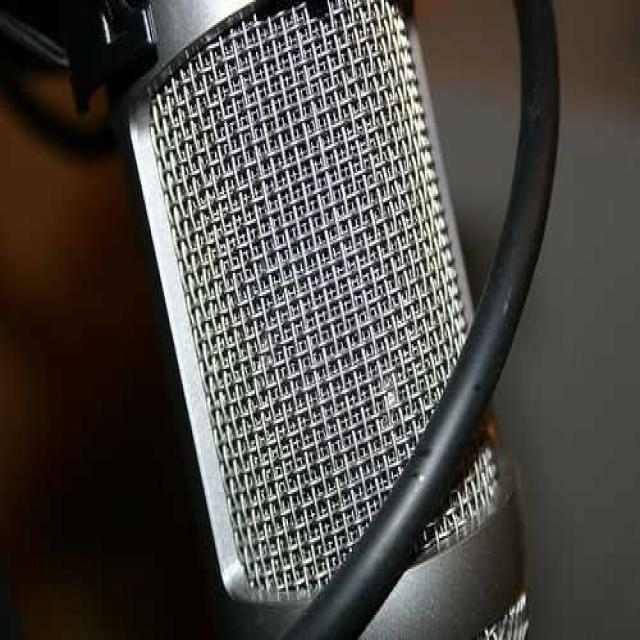microphone: (5, 4, 539, 624)
